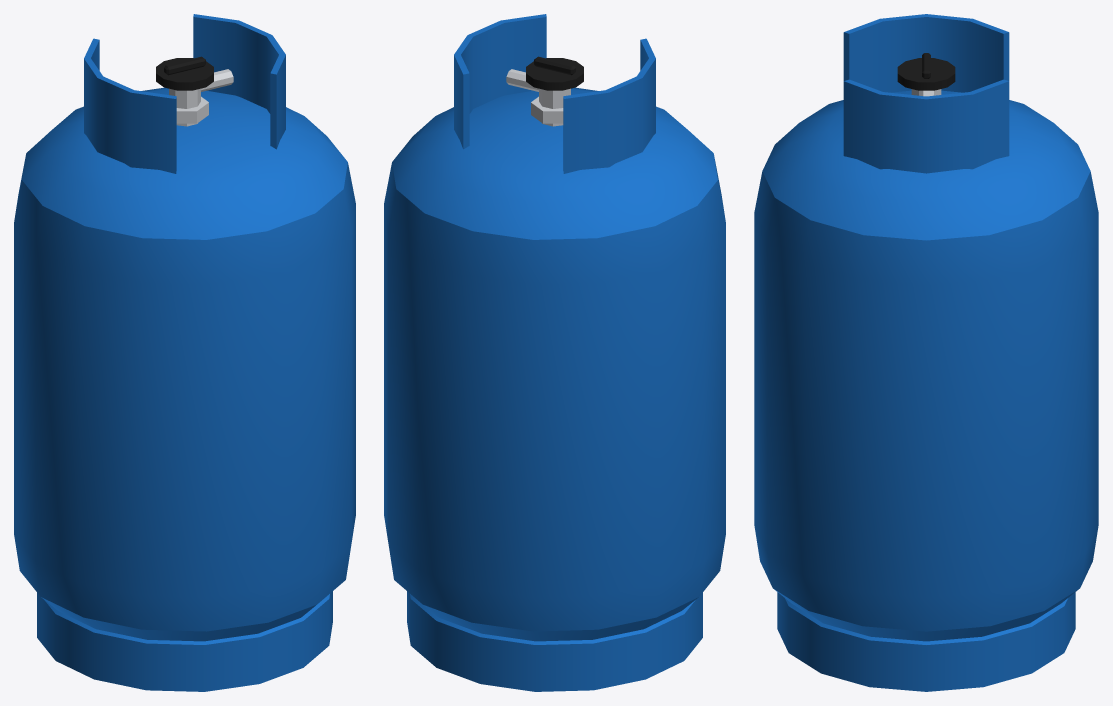
Rendered from garrafa.glb.
3 renders of one model, left to right at view 1: azimuth 30°, elevation 25°; view 2: azimuth 150°, elevation 25°; view 3: azimuth 270°, elevation 25°, orthographic.
Parts seen in each view (by area): view 1: garrafa_cuerpo; view 2: garrafa_cuerpo; view 3: garrafa_cuerpo.
Boxes of the visible parts, x1,y1,x2,y2 form: garrafa_cuerpo: [14, 14, 355, 691]; garrafa_cuerpo: [384, 14, 725, 691]; garrafa_cuerpo: [754, 14, 1098, 691].
Size of what is drawn, in the model's own units: 0.3 by 0.55 by 0.3.
